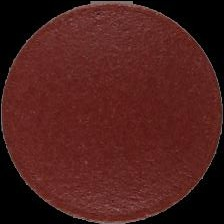16729-171: (0, 0, 224, 224)
